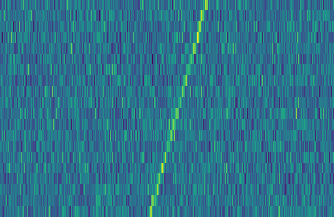signal: (146, 0, 213, 217)
